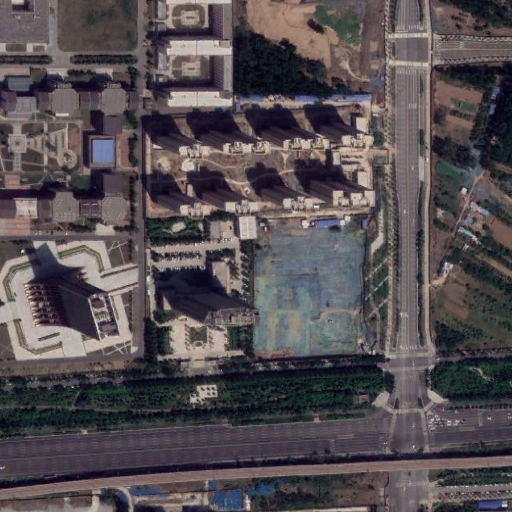cw: (254, 219, 370, 355)
